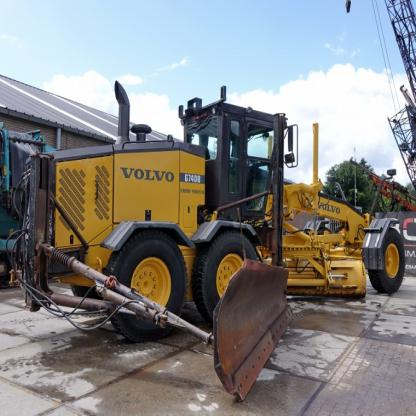bull_dozer/loader/grader: (15, 88, 415, 346)
